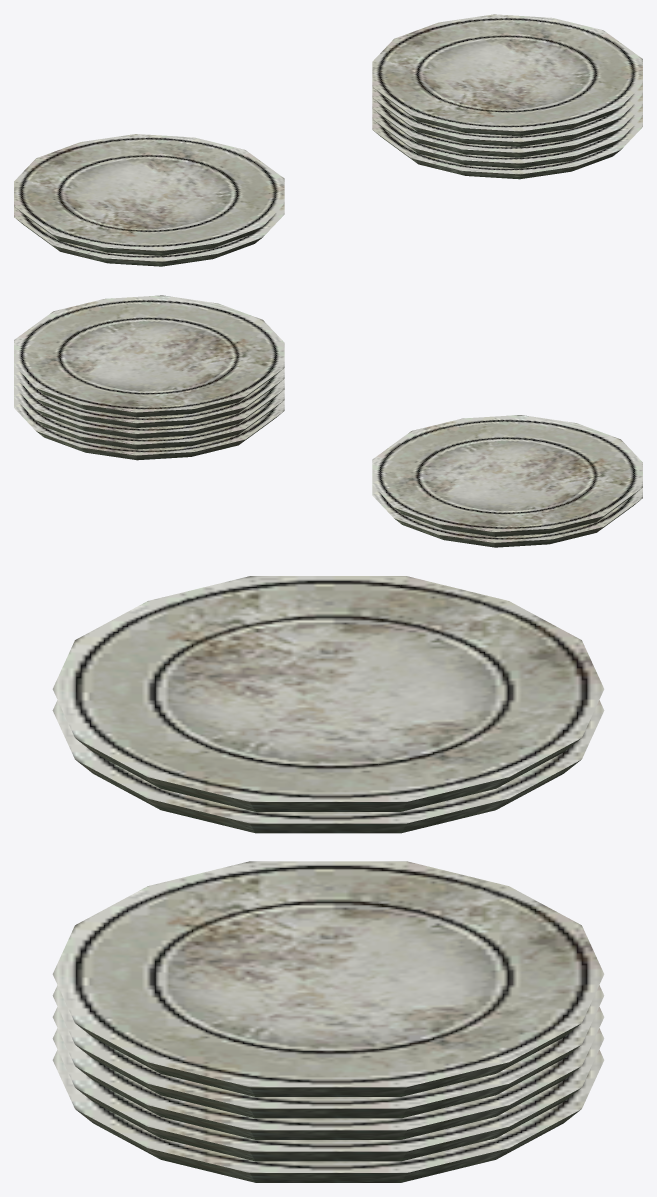
Rendered from Kitchen_Plates04.obj.
The picture shows the model from 3 angles, top to bottom: view 1: azimuth 30°, elevation 25°; view 2: azimuth 150°, elevation 25°; view 3: azimuth 270°, elevation 25°; orthographic projection. The views are drawn at different scales.
Visible parts, largest first — view 1: AA_Kitchen_Plates01_Sk; view 2: AA_Kitchen_Plates01_Sk; view 3: AA_Kitchen_Plates01_Sk.
Boxes of the visible parts, <box> form: AA_Kitchen_Plates01_Sk: <box>14,14,642,266</box>; AA_Kitchen_Plates01_Sk: <box>14,295,642,547</box>; AA_Kitchen_Plates01_Sk: <box>52,576,604,1182</box>.
Size of the model in its own units: 119 by 9.97 by 48.03.
1 material, 1 textured.
